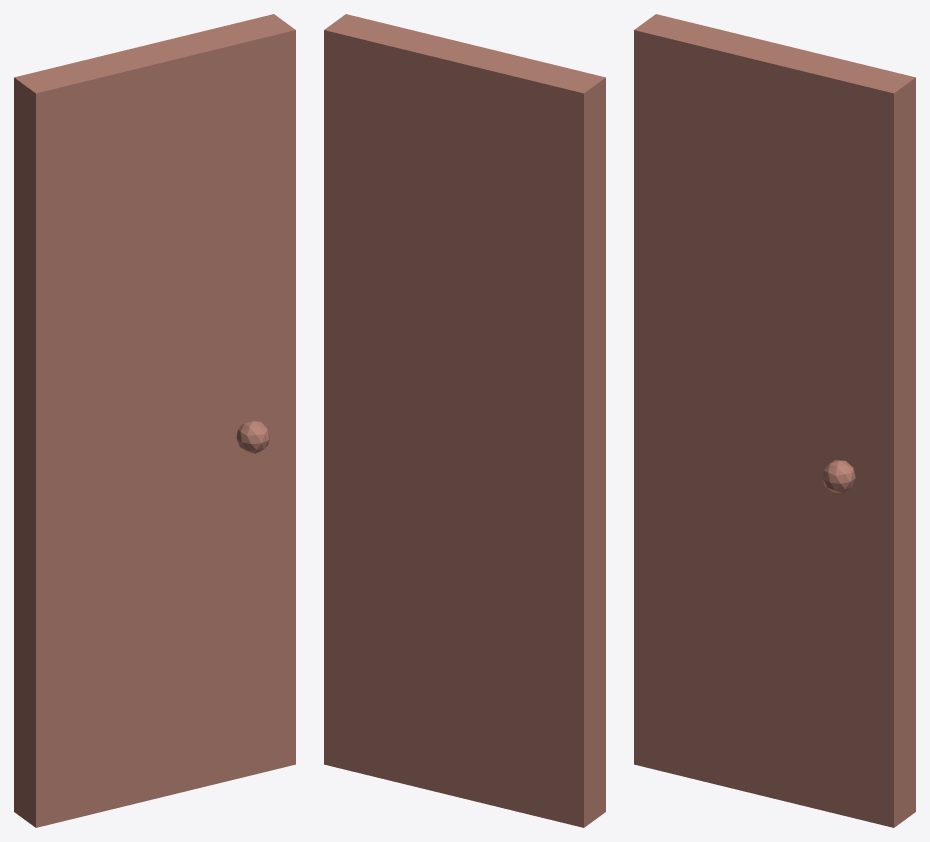
File: Door_OneWay.fbx
The picture shows the model from 3 angles, left to right: view 1: azimuth 30°, elevation 25°; view 2: azimuth 150°, elevation 25°; view 3: azimuth 330°, elevation 25°; orthographic projection.
Parts seen in each view (by area): view 1: Door_OneWay; view 2: Door_OneWay; view 3: Door_OneWay.
Boxes of the visible parts, bbox=[...] form: Door_OneWay: bbox=[14, 14, 295, 827]; Door_OneWay: bbox=[324, 14, 605, 827]; Door_OneWay: bbox=[634, 14, 915, 827].
Size of the model in its own units: 1 by 2.7 by 0.2441.
